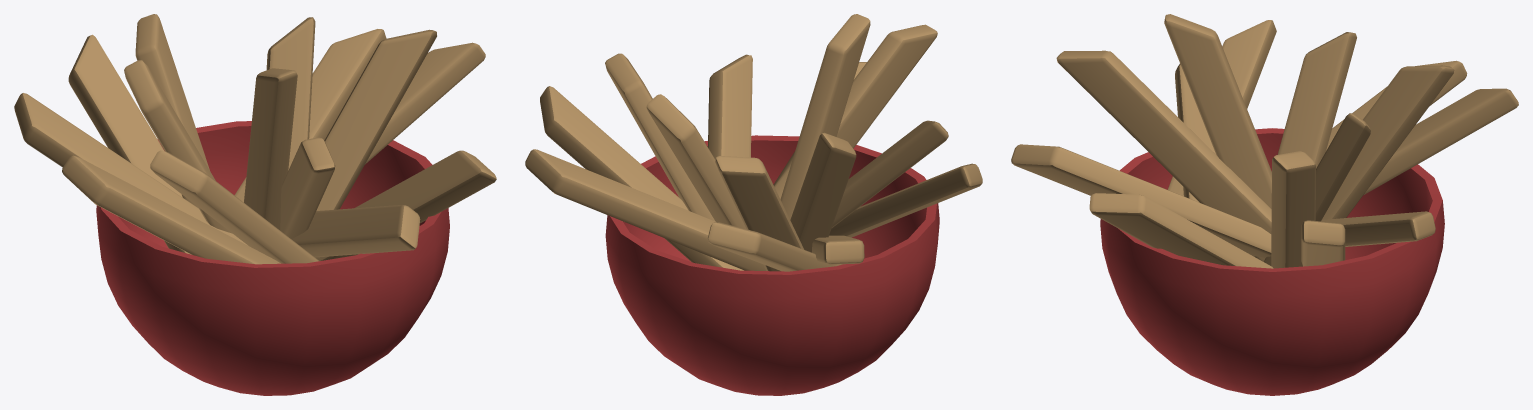
File: Chip Bowl.fbx
3 views of the same model, side by side, from view 1: azimuth 30°, elevation 25°; view 2: azimuth 150°, elevation 25°; view 3: azimuth 270°, elevation 25° (orthographic). The views are drawn at different scales.
Visible parts, largest first — view 1: group8_pasted__pCube1, pSphere1; view 2: group8_pasted__pCube1, pSphere1; view 3: group8_pasted__pCube1, pSphere1.
Part boxes in pixels (box(x1,y1,x2,y2)): group8_pasted__pCube1: box(14, 14, 496, 264); pSphere1: box(96, 121, 449, 395); group8_pasted__pCube1: box(525, 14, 982, 271); pSphere1: box(605, 135, 939, 395); group8_pasted__pCube1: box(1011, 14, 1518, 268); pSphere1: box(1100, 128, 1444, 395).
Bounding box in the file's own units: 19.89 × 15.44 × 20.56.
